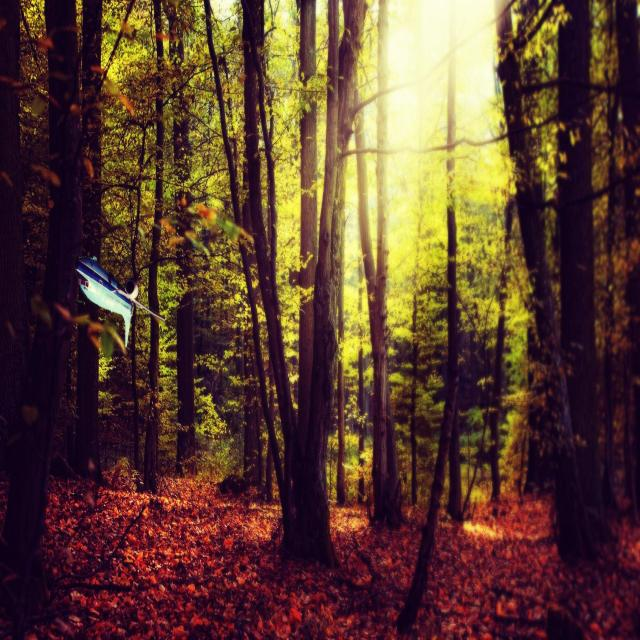airplane: (74, 254, 166, 349)
